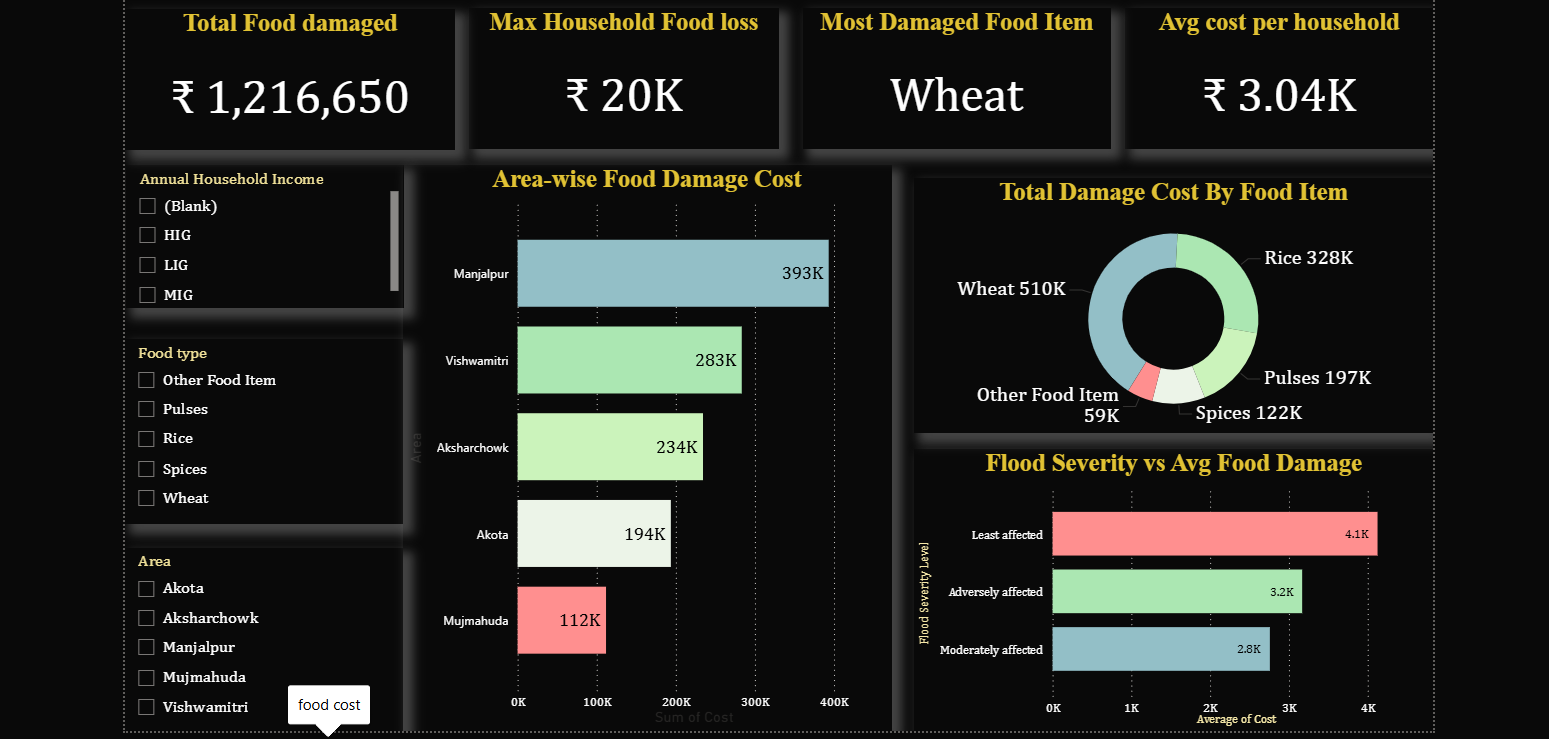

What the dashboard file says about the page in this screenshot:
{"tool":"powerbi","page":{"name":"food cost","canvas":[1280,720],"ordinal":1},"visuals":[{"type":"card","title":"Total Food damaged","fields":{"Values":["Sheet1 (2).Total Food Damage Cost (Formatted)"]},"box":[0,13.3,323.3,138.3],"z":0},{"type":"donutChart","title":"Total Damage Cost  By Food Item","fields":{"Category":["Sheet1 (2).Food type"],"Y":["Sum(Sheet1 (2).Cost)"]},"box":[771.7,178.3,508.3,250],"z":1000},{"type":"barChart","title":"Flood Severity vs Avg Food Damage","fields":{"Y":["Avg(Sheet1 (2).Cost)"],"Category":["Sheet1 (2).Flood Severity Level"]},"box":[771.6,443.9,508.7,276.4],"z":2000},{"type":"barChart","title":"Area-wise Food Damage Cost","fields":{"Category":["Sheet1 (2).Area"],"Y":["Sum(Sheet1 (2).Cost)"]},"box":[271.7,166.7,478.3,553.3],"z":3000},{"type":"card","title":"Avg cost per household","fields":{"Values":["Sheet1 (2).Avg Cost per Affected Household (₹)"]},"box":[978.3,11.7,301.7,138.3],"z":4000},{"type":"card","title":"Most Damaged Food Item","fields":{"Values":["Sheet1 (2).Most Damaged Food Item"]},"box":[663.3,11.7,301.7,138.3],"z":5000},{"type":"card","title":"Max Household Food loss","fields":{"Values":["Sheet1 (2).Max Household Food Loss (₹)"]},"box":[336.7,11.7,303.3,138.3],"z":6000},{"type":"slicer","fields":{"Values":["Sheet1 (2).Food type"]},"box":[0,336.7,271.7,181.7],"z":7000},{"type":"slicer","fields":{"Values":["Sheet1 (2).Area"]},"box":[0,540,271.7,180],"z":8000},{"type":"slicer","fields":{"Values":["Sheet1.Annual Household Income"]},"box":[1.7,166.7,271.7,140],"z":9000}]}

Visuals, with their boxes on the page's 1280x720 design canvas (x1, y1, x2, y2). These are canvas units, not pixel positions in the 1549x739 screenshot, which may show the page scaled, cropped or inside an application window:
"Total Food damaged" card: box(0, 13, 323, 152)
"Total Damage Cost  By Food Item" donutChart: box(772, 178, 1280, 428)
"Flood Severity vs Avg Food Damage" barChart: box(772, 444, 1280, 720)
"Area-wise Food Damage Cost" barChart: box(272, 167, 750, 720)
"Avg cost per household" card: box(978, 12, 1280, 150)
"Most Damaged Food Item" card: box(663, 12, 965, 150)
"Max Household Food loss" card: box(337, 12, 640, 150)
slicer - Sheet1 (2).Food type: box(0, 337, 272, 518)
slicer - Sheet1 (2).Area: box(0, 540, 272, 720)
slicer - Sheet1.Annual Household Income: box(2, 167, 273, 307)
